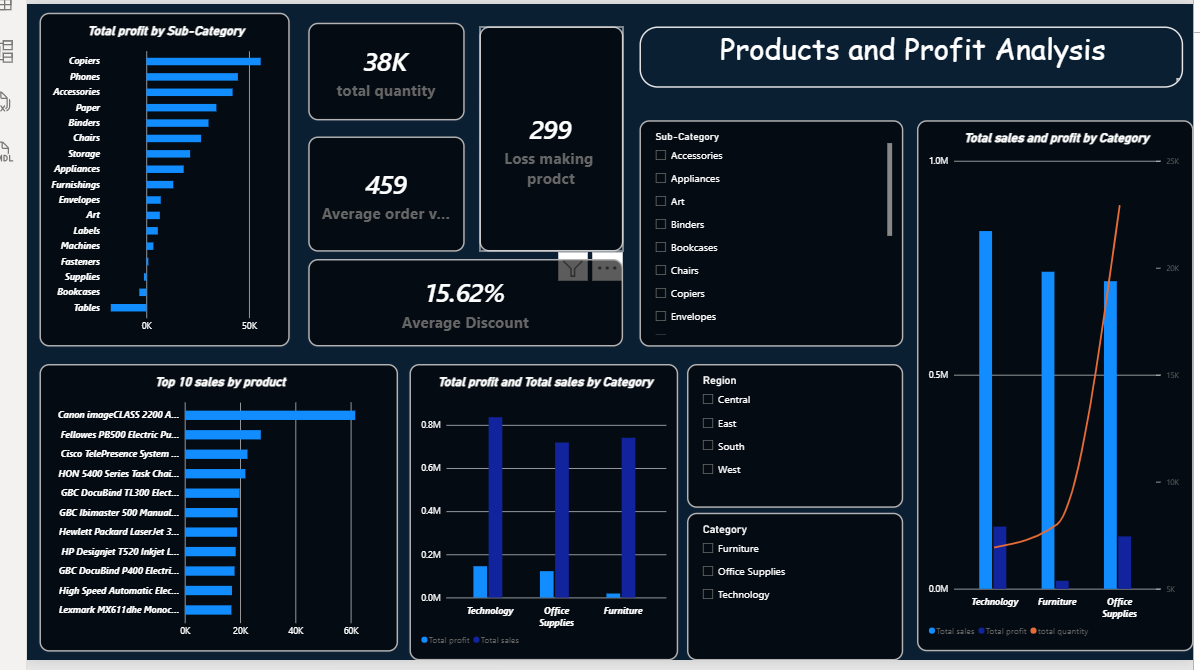

The page's visual inventory and layout, read from the dashboard file:
{"tool":"powerbi","page":{"name":"product and profit analysis","canvas":[1920,1080],"ordinal":1},"visuals":[{"type":"clusteredBarChart","fields":{"Category":["public superstore3.Sub-Category"],"Y":["public superstore3.Total profit"]},"box":[20.6,14.4,411.7,549.6],"z":0},{"type":"card","fields":{"Values":["public superstore3.total quantity"]},"box":[463.1,30.9,257.3,160.5],"z":1000},{"type":"card","fields":{"Values":["public superstore3.Average order value"]},"box":[463.1,218.2,257.3,189.4],"z":2000},{"type":"card","fields":{"Values":["public superstore3.loss making prodct"]},"box":[745.1,37,236.7,370.5],"z":3000},{"type":"card","fields":{"Values":["public superstore3.Average Discount"]},"box":[463.1,419.9,518.7,144.1],"z":4000},{"type":"slicer","title":"category","fields":{"Values":["public superstore3.Category"]},"box":[1086.8,837.7,356.1,242.9],"z":5000},{"type":"slicer","fields":{"Values":["public superstore3.Sub-Category"]},"box":[1008.6,191.4,434.3,372.6],"z":6000},{"type":"slicer","fields":{"Values":["public superstore3.Region"]},"box":[1086.8,592.8,356.1,236.7],"z":7000},{"type":"clusteredColumnChart","fields":{"Category":["public superstore3.Category"],"Y":["public superstore3.Total profit","public superstore3.Total sales"]},"box":[629.8,592.8,442.5,487.8],"z":8000},{"type":"lineClusteredColumnComboChart","title":"Total sales and profit by Category","fields":{"Y":["public superstore3.Total sales","public superstore3.Total profit"],"Category":["public superstore3.Category"],"Y2":["public superstore3.total quantity"]},"box":[1465.5,191.4,454.9,874.8],"z":9000},{"type":"clusteredBarChart","title":"Top 10 sales by product","fields":{"Y":["public superstore3.Total sales"],"Category":["public superstore3.Product Name"]},"box":[20.6,592.8,590.7,473.4],"z":9001},{"type":"textbox","title":"Products and Profit Analysis","box":[1008.6,37,895.4,100.9],"z":9002}]}

Visuals, with their boxes in screenshot pixels (x1, y1, x2, y2):
clusteredBarChart - public superstore3.Sub-Category x public superstore3.Total profit: 31,9,283,344
card - public superstore3.total quantity: 302,19,459,117
card - public superstore3.Average order value: 302,133,459,249
card - public superstore3.loss making prodct: 474,23,618,249
card - public superstore3.Average Discount: 302,256,618,344
"category" slicer: 682,512,900,660
slicer - public superstore3.Sub-Category: 635,117,900,344
slicer - public superstore3.Region: 682,362,900,507
clusteredColumnChart - public superstore3.Category x public superstore3.Total profit: 403,362,674,660
"Total sales and profit by Category" lineClusteredColumnComboChart: 914,117,1191,651
"Top 10 sales by product" clusteredBarChart: 31,362,392,651
"Products and Profit Analysis" textbox: 635,23,1181,84
